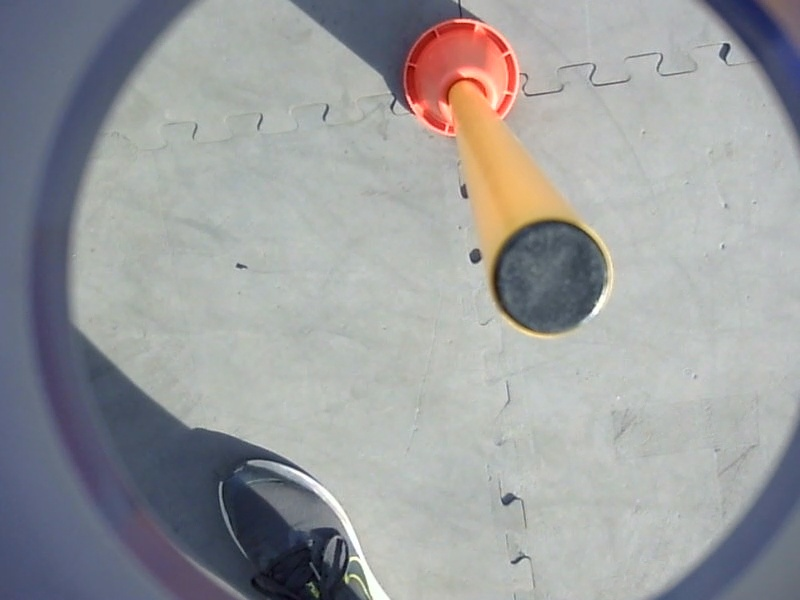tip: (484, 207, 618, 343)
